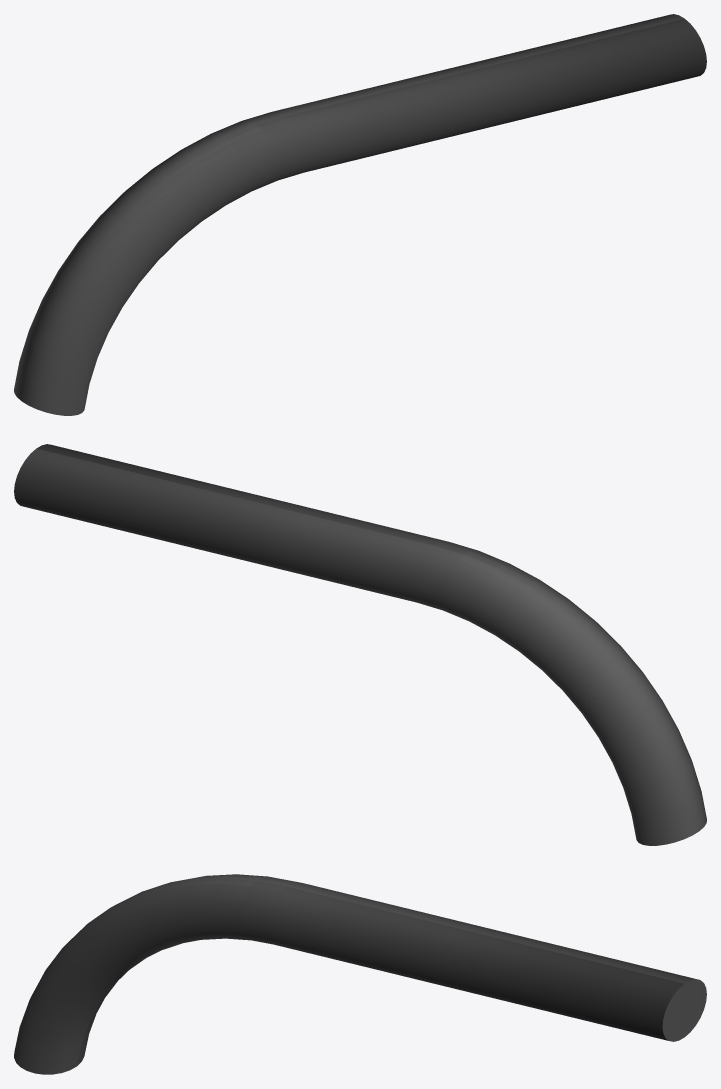
Rendered from original-58.obj.
3 renders of one model, top to bottom at view 1: azimuth 30°, elevation 25°; view 2: azimuth 150°, elevation 25°; view 3: azimuth 330°, elevation 25°, orthographic.
Parts seen in each view (by area): view 1: Group44/mesh66/mesh66-geometry#mesh66-geometry; view 2: Group44/mesh66/mesh66-geometry#mesh66-geometry; view 3: Group44/mesh66/mesh66-geometry#mesh66-geometry.
Boxes of the visible parts, x1=… form: Group44/mesh66/mesh66-geometry#mesh66-geometry: x1=14, y1=14, x2=706, y2=415; Group44/mesh66/mesh66-geometry#mesh66-geometry: x1=14, y1=444, x2=706, y2=845; Group44/mesh66/mesh66-geometry#mesh66-geometry: x1=14, y1=874, x2=706, y2=1074.
Bounding box in the file's own units: 0.1326 × 0.0442 × 0.0154.
Materials: 1 (1 with a texture image).
